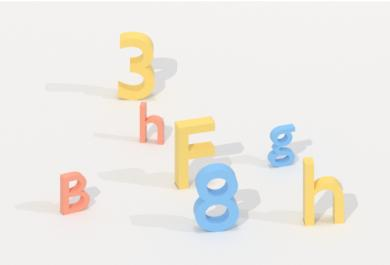3: (115, 29, 159, 103)
8: (193, 162, 241, 234)
B: (55, 168, 93, 220)
g: (264, 119, 299, 171)
h: (302, 155, 349, 230), (133, 100, 169, 150)
